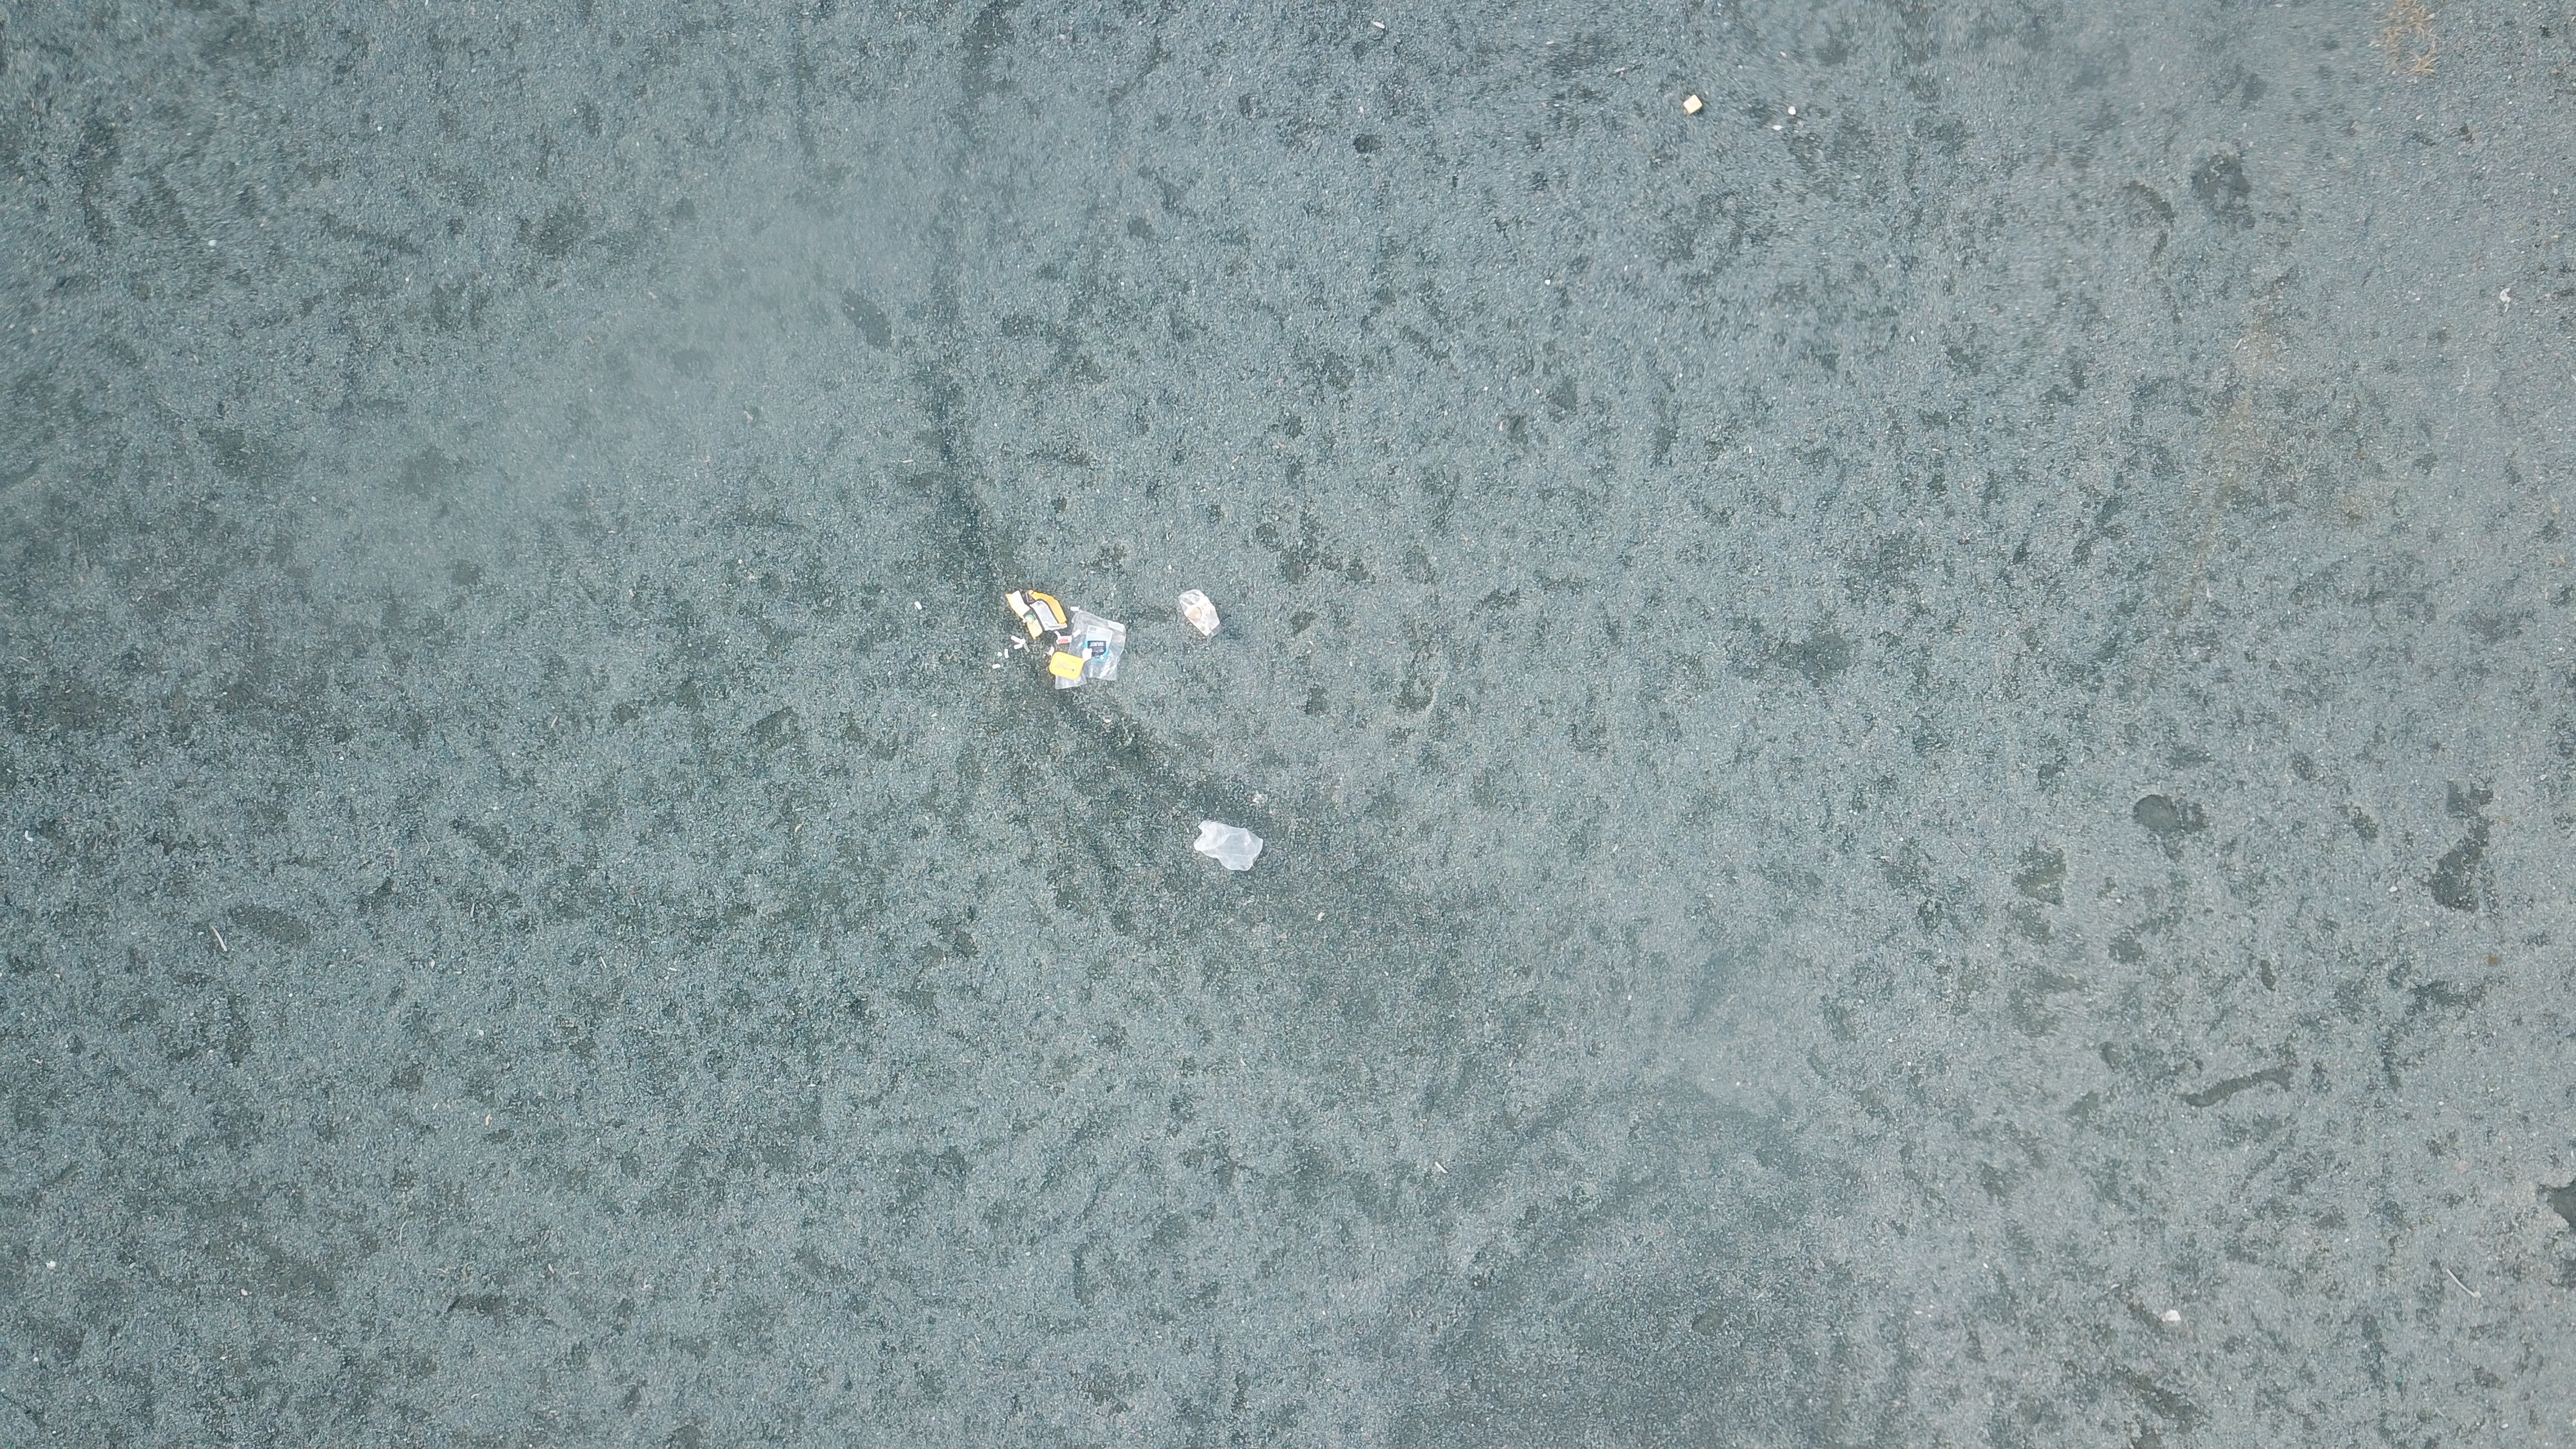Plastic: (1070, 609, 1129, 681), (1192, 821, 1265, 870), (1001, 589, 1070, 635), (1178, 586, 1226, 639), (1046, 649, 1085, 679), (1684, 94, 1704, 113)
